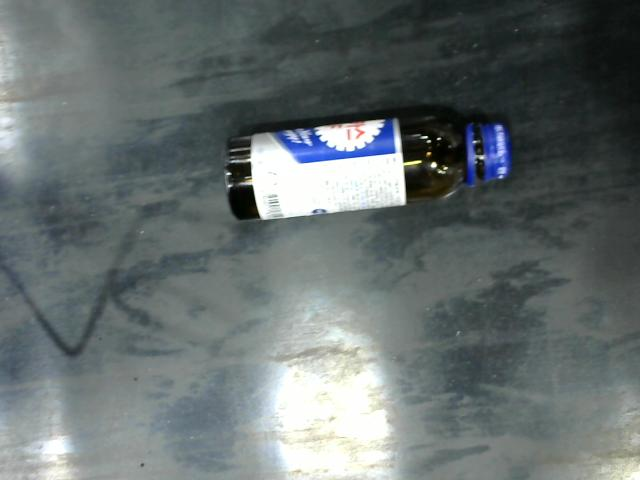glass: (221, 107, 515, 225)
